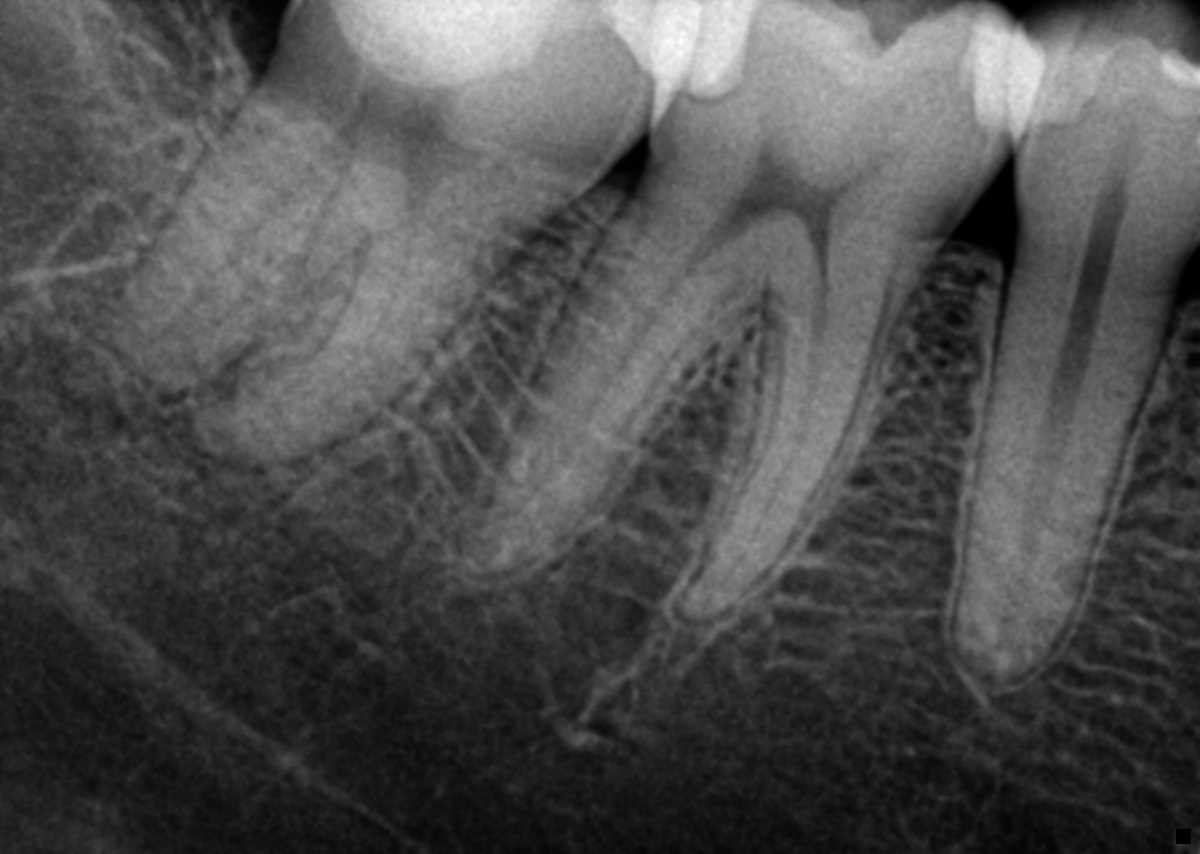Apical Lesion: (13, 343, 182, 455)
Distal Canal: (500, 221, 753, 522), (146, 153, 334, 353)
Distal Root: (459, 180, 773, 588), (50, 109, 356, 395)
Main Canal: (999, 293, 1104, 633)
Main Root: (953, 268, 1169, 681)
Mesial Canal: (700, 236, 838, 622), (308, 210, 426, 408)
Mesial Root: (669, 229, 933, 626), (191, 204, 526, 461)
